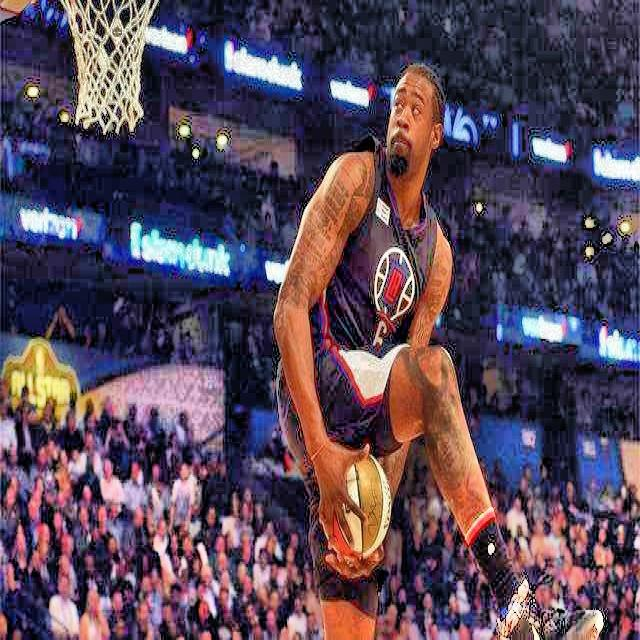rim: (59, 0, 161, 133)
